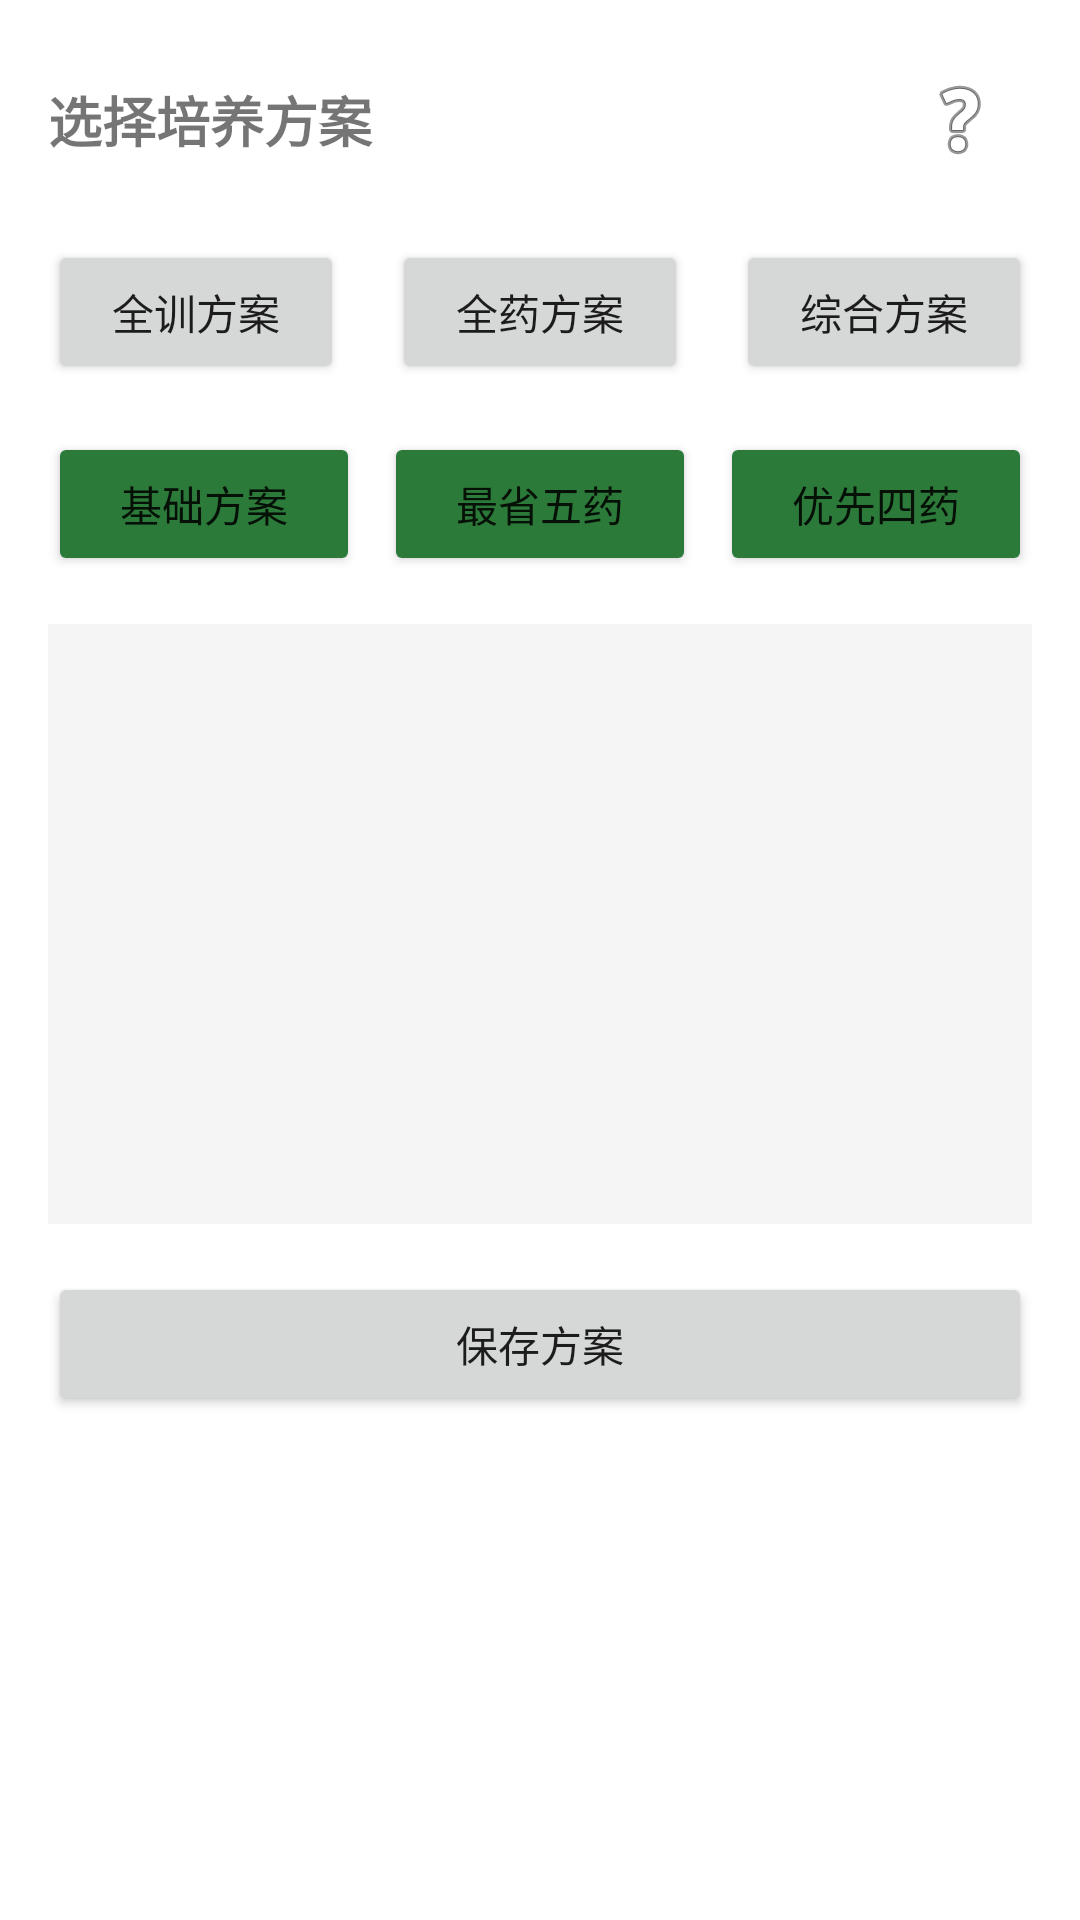

Point at icon controls on the screen. Image size 1080×1920, points as (x,y).
help: (960,120)
